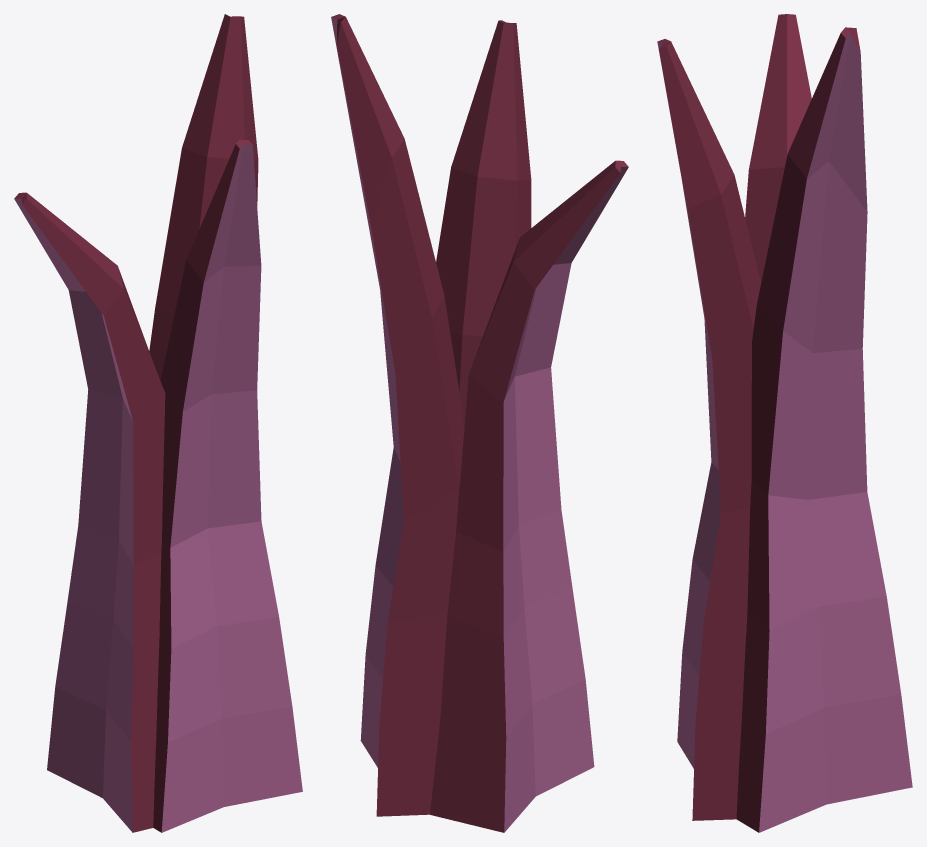
Rendered from Mo_GrassForest02.fbx.
3 views of the same model, side by side, from view 1: azimuth 30°, elevation 25°; view 2: azimuth 150°, elevation 25°; view 3: azimuth 270°, elevation 25° (orthographic). The views are drawn at different scales.
Parts seen in each view (by area): view 1: Cube.002; view 2: Cube.002; view 3: Cube.002.
Part boxes in pixels (box(x1,y1,x2,y2)): Cube.002: box(14, 14, 302, 832); Cube.002: box(331, 14, 628, 832); Cube.002: box(657, 14, 912, 832).
Size of the model in its own units: 16.54 by 43.34 by 12.67.
